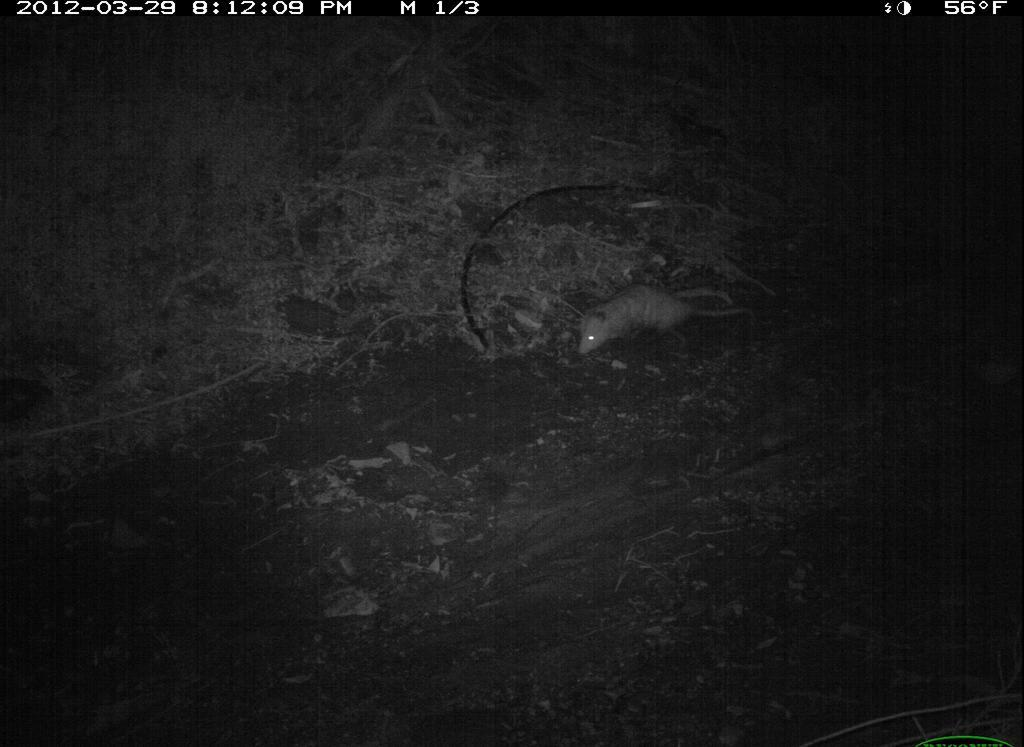opossum: (557, 269, 766, 361)
